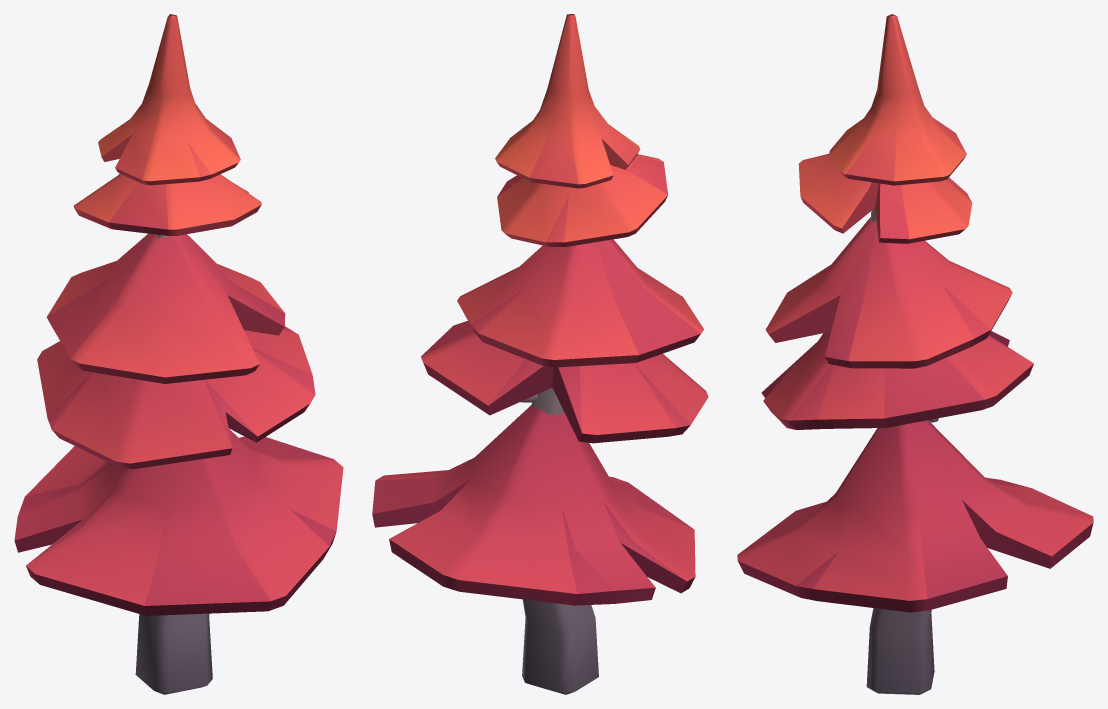
Rendered from Pine_Tree_-_Proto_Series_-_Free.glb.
3 views of the same model, side by side, from view 1: azimuth 30°, elevation 25°; view 2: azimuth 150°, elevation 25°; view 3: azimuth 270°, elevation 25° (orthographic).
Visible parts, largest first — view 1: tree_pine_SC_04_pine_tree_red_mat_0; view 2: tree_pine_SC_04_pine_tree_red_mat_0; view 3: tree_pine_SC_04_pine_tree_red_mat_0.
Part boxes in pixels (x1,y1,x2,y2): tree_pine_SC_04_pine_tree_red_mat_0: [14, 14, 343, 694]; tree_pine_SC_04_pine_tree_red_mat_0: [372, 14, 708, 694]; tree_pine_SC_04_pine_tree_red_mat_0: [737, 14, 1093, 694].
Size of the model in its own units: 528 by 1086 by 526.
Materials: 1 (1 with a texture image).
